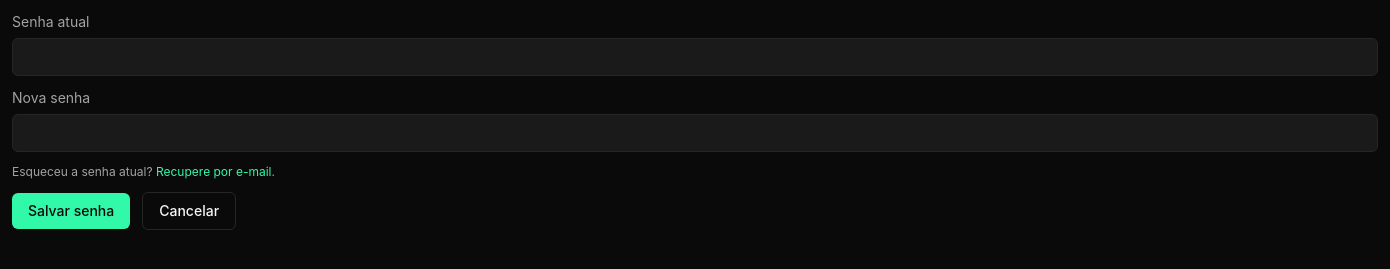
Test: ChangePasswordForm › 401 invalid credentials marca a senha atual sem fechar o form
The image size is (1390, 269).
Type "errada123" into the password field labelled "Senha atual" at (695, 57), box [12,38,1378,76]
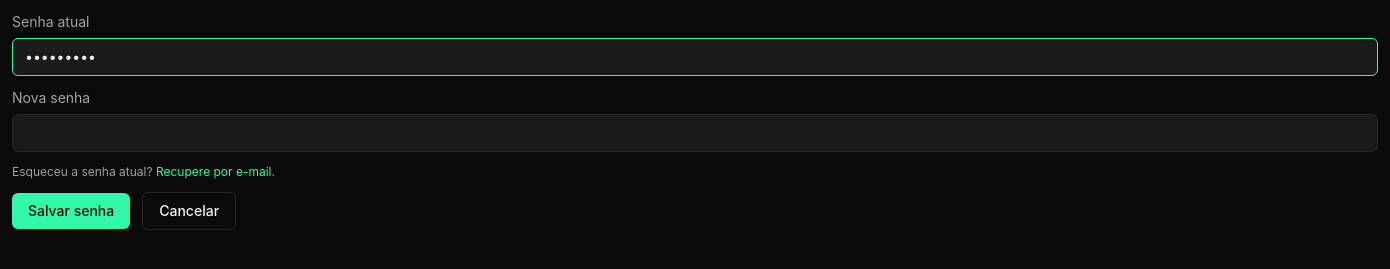
Type "nova456" into the password field labelled "Nova senha" at (695, 133), box [12,114,1378,152]
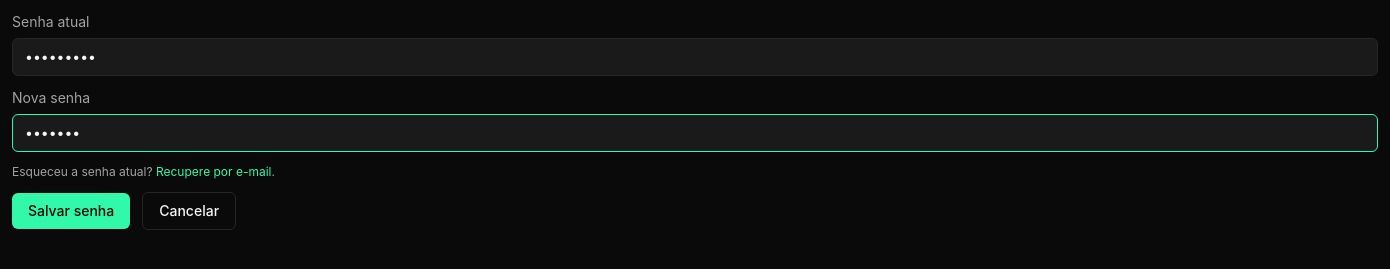
Click the button "Salvar senha" at (71, 211), box [12,193,130,229]
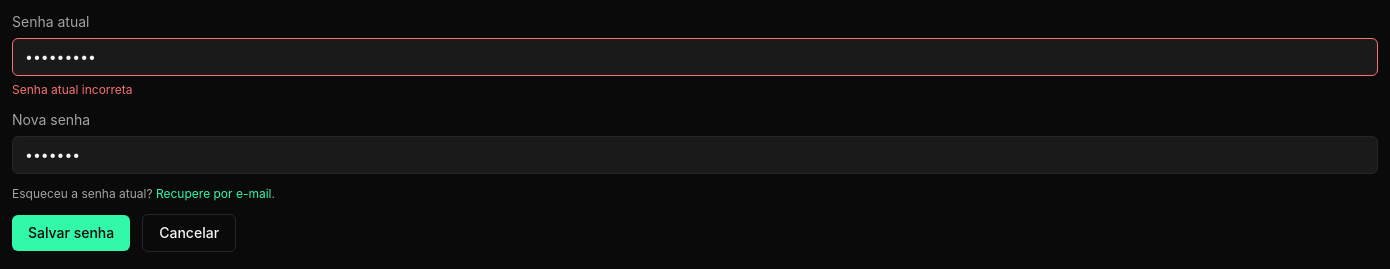
Expected: the text "Senha atual incorreta" is shown, [12,82,133,97]
